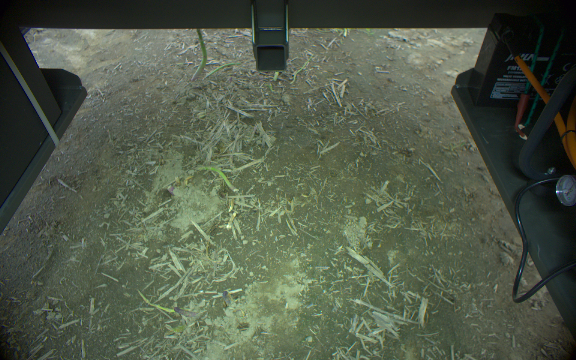aspa: (193, 163, 240, 195), (191, 29, 209, 81), (202, 61, 242, 82), (173, 307, 200, 319), (221, 290, 235, 306)
